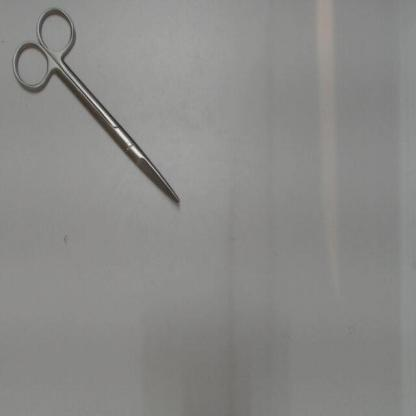Curved Mayo Scissors: (6, 2, 184, 212)
